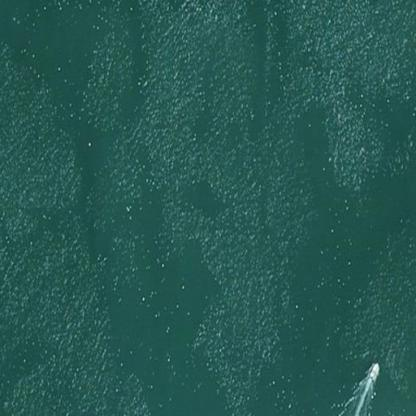ship: (354, 354, 385, 390)
